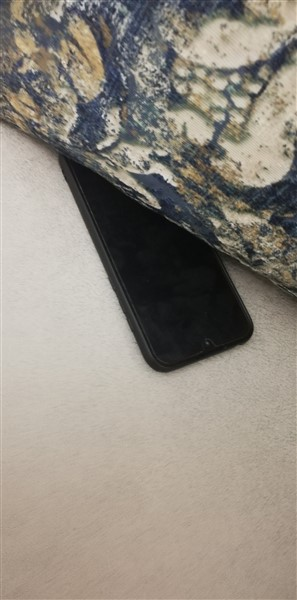telefon: (52, 144, 261, 375)
